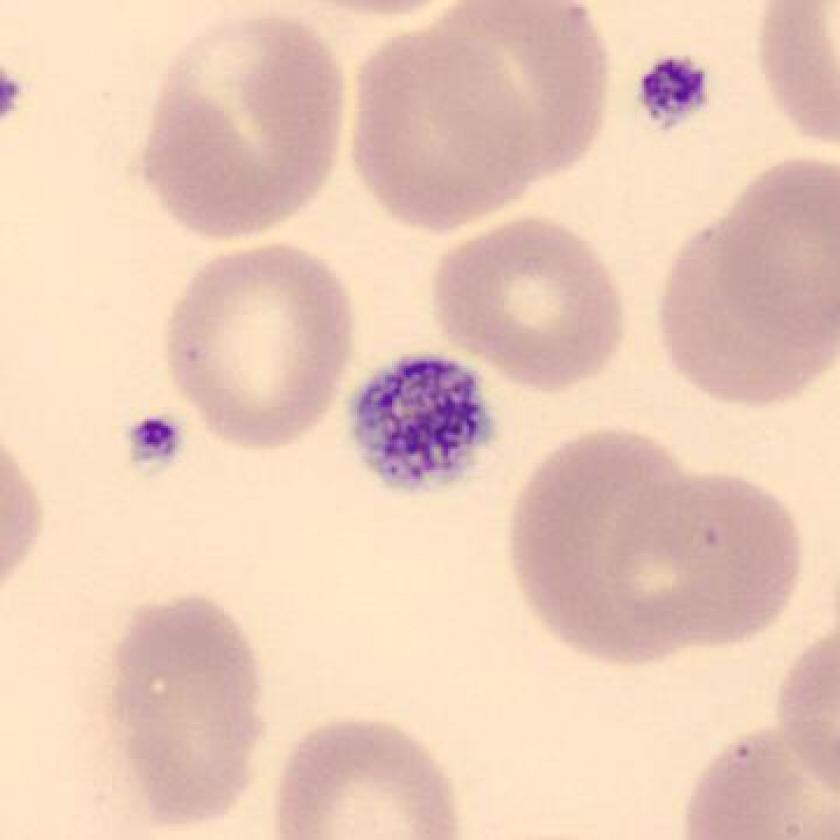platelets: (339, 341, 510, 506)
